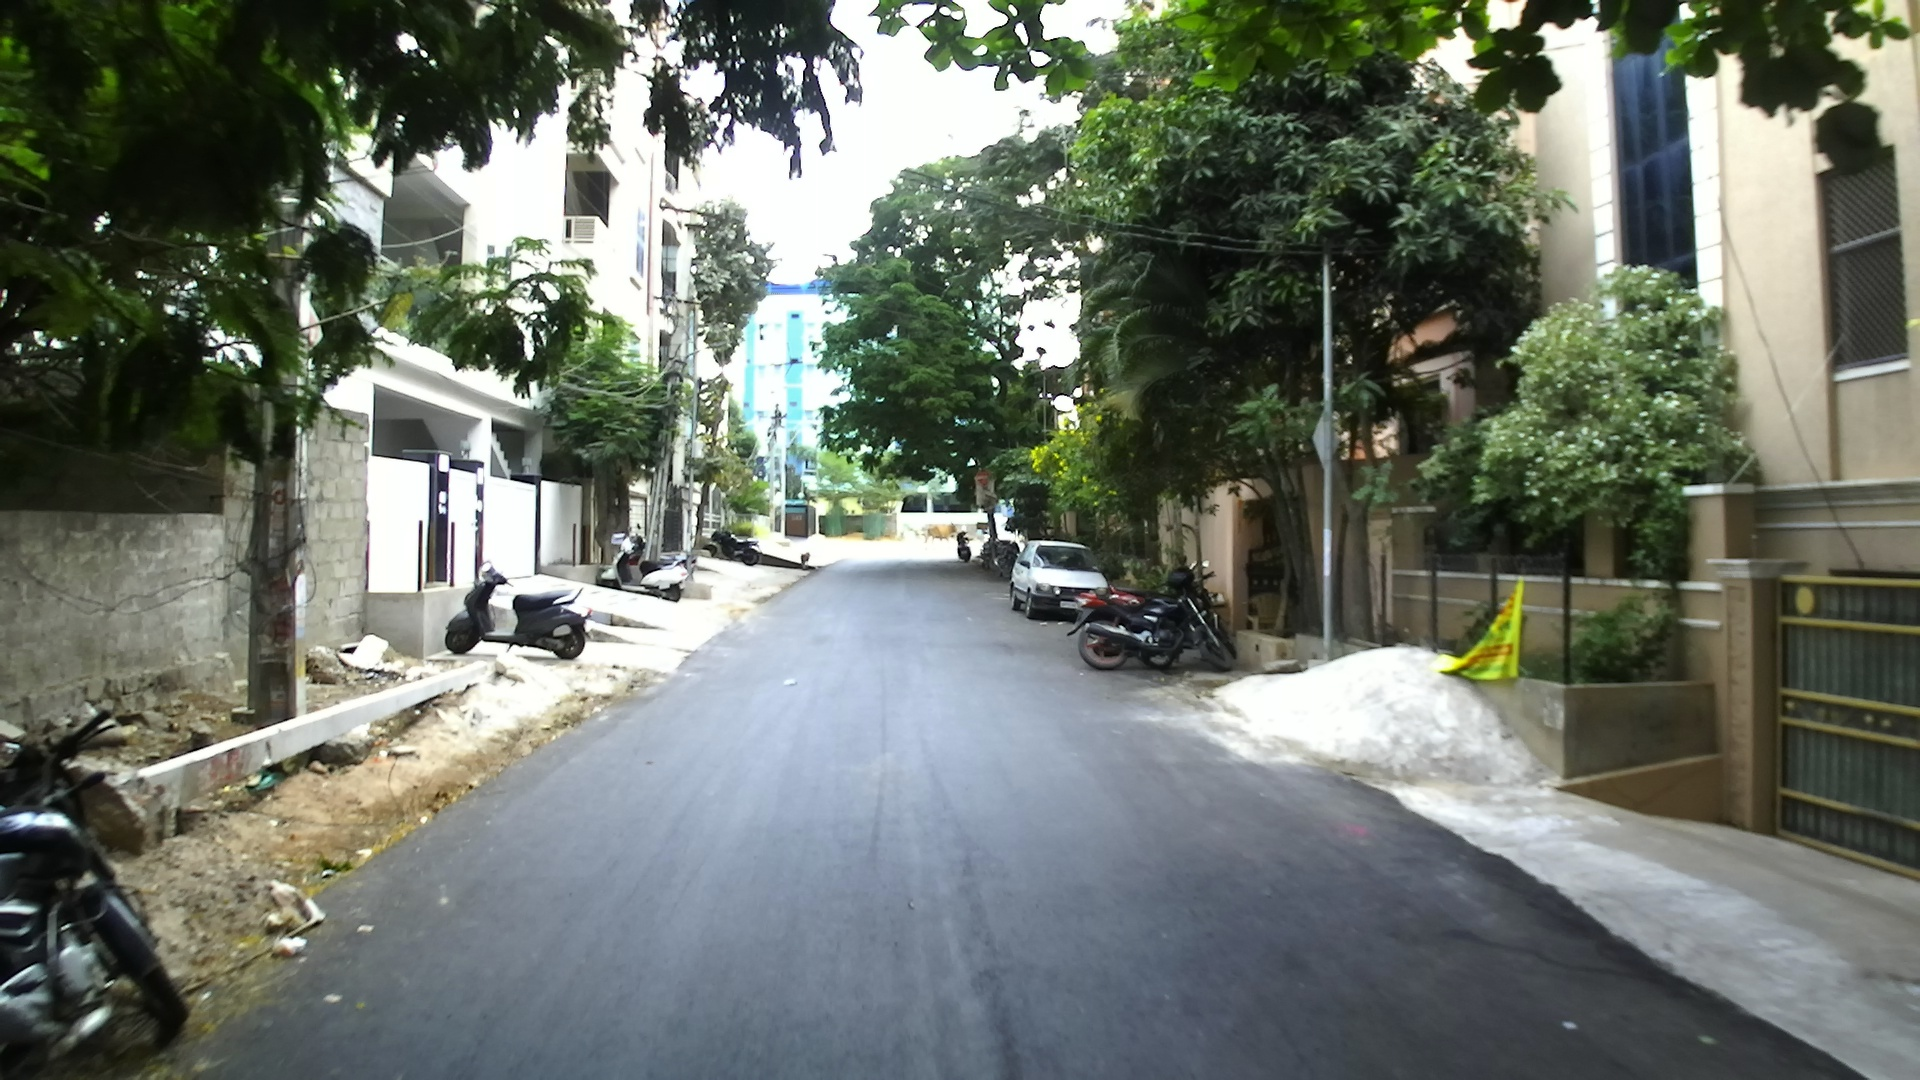vehicle: (0, 687, 194, 1068), (1072, 568, 1237, 674), (442, 563, 591, 662), (1073, 589, 1195, 673), (1006, 541, 1108, 622)
